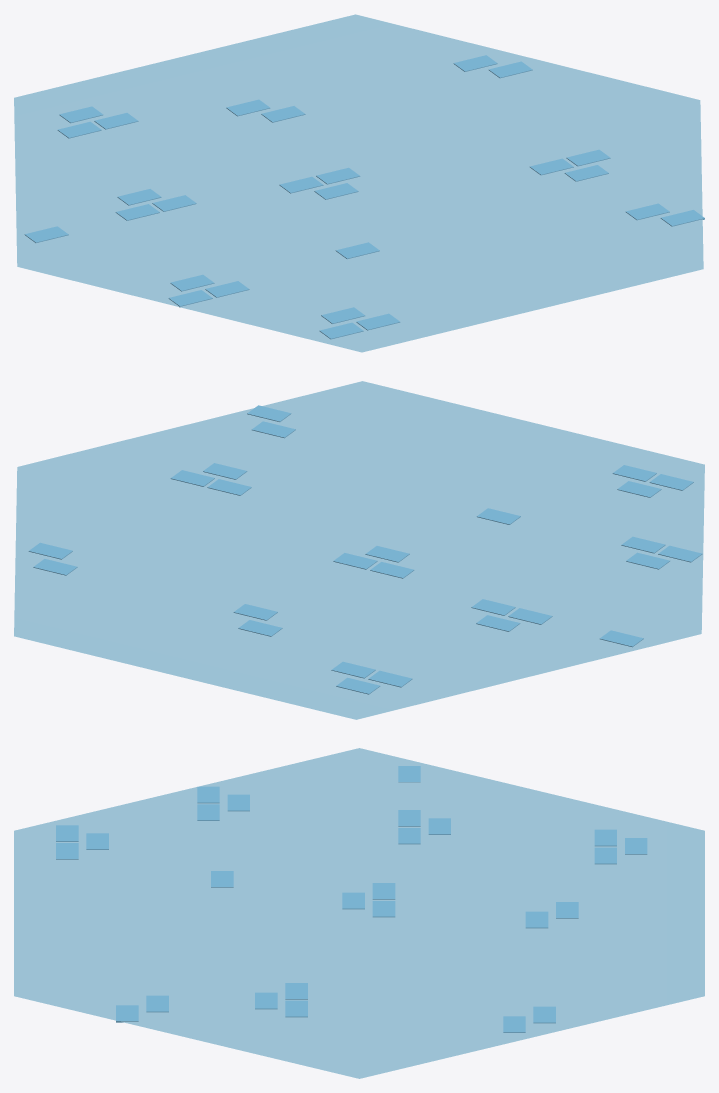
File: san.fbx
The picture shows the model from 3 angles, top to bottom: view 1: azimuth 30°, elevation 25°; view 2: azimuth 150°, elevation 25°; view 3: azimuth 270°, elevation 25°; orthographic projection.
Parts seen in each view (by area): view 1: san; view 2: san; view 3: san.
Part boxes in pixels (x1=…): san: x1=14, y1=14, x2=704, y2=352; san: x1=14, y1=381, x2=704, y2=719; san: x1=14, y1=748, x2=704, y2=1078.
Bounding box in the file's own units: 1984 × 4.2 × 1751.
